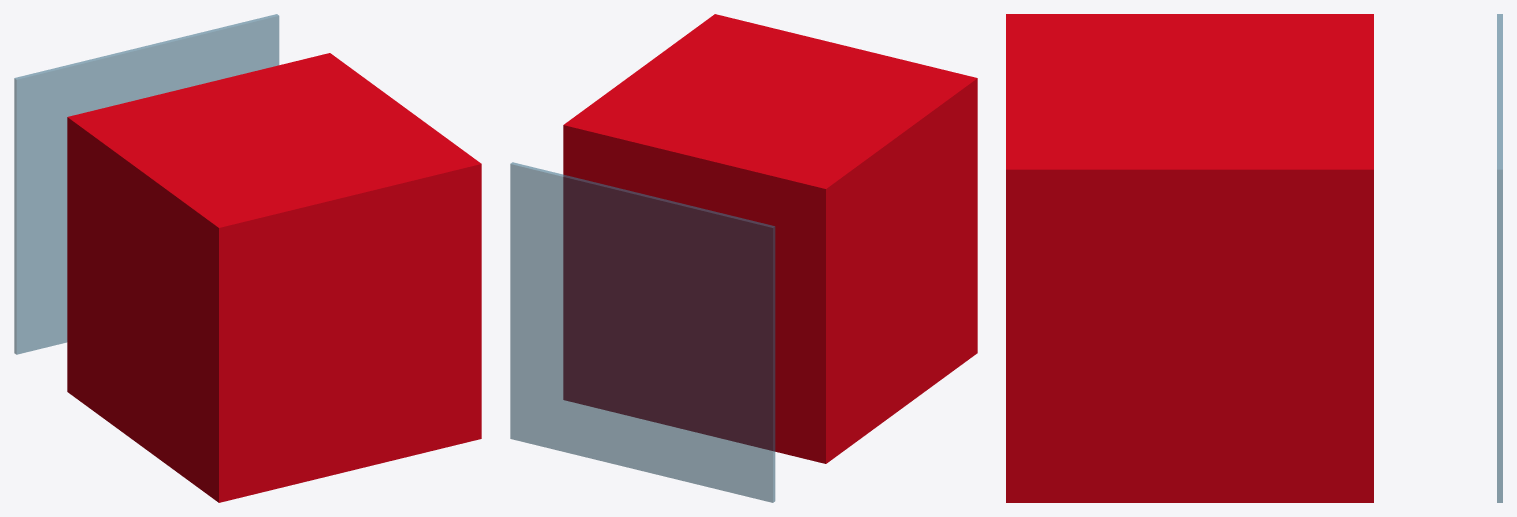
Rendered from glassTesting1.glb.
3 views of the same model, side by side, from view 1: azimuth 30°, elevation 25°; view 2: azimuth 150°, elevation 25°; view 3: azimuth 270°, elevation 25° (orthographic). The views are drawn at different scales.
Visible parts, largest first — view 1: Cube.001, Cube; view 2: Cube.001, Cube; view 3: Cube.001, Cube.
Boxes of the visible parts, bbox=[...] form: Cube.001: bbox=[67, 53, 481, 502]; Cube: bbox=[14, 14, 279, 354]; Cube.001: bbox=[563, 14, 977, 463]; Cube: bbox=[510, 162, 775, 502]; Cube.001: bbox=[1006, 14, 1373, 502]; Cube: bbox=[1497, 14, 1502, 502].
Size of the model in its own units: 2 by 2 by 2.7.
Materials: 2 (1 with a texture image).
